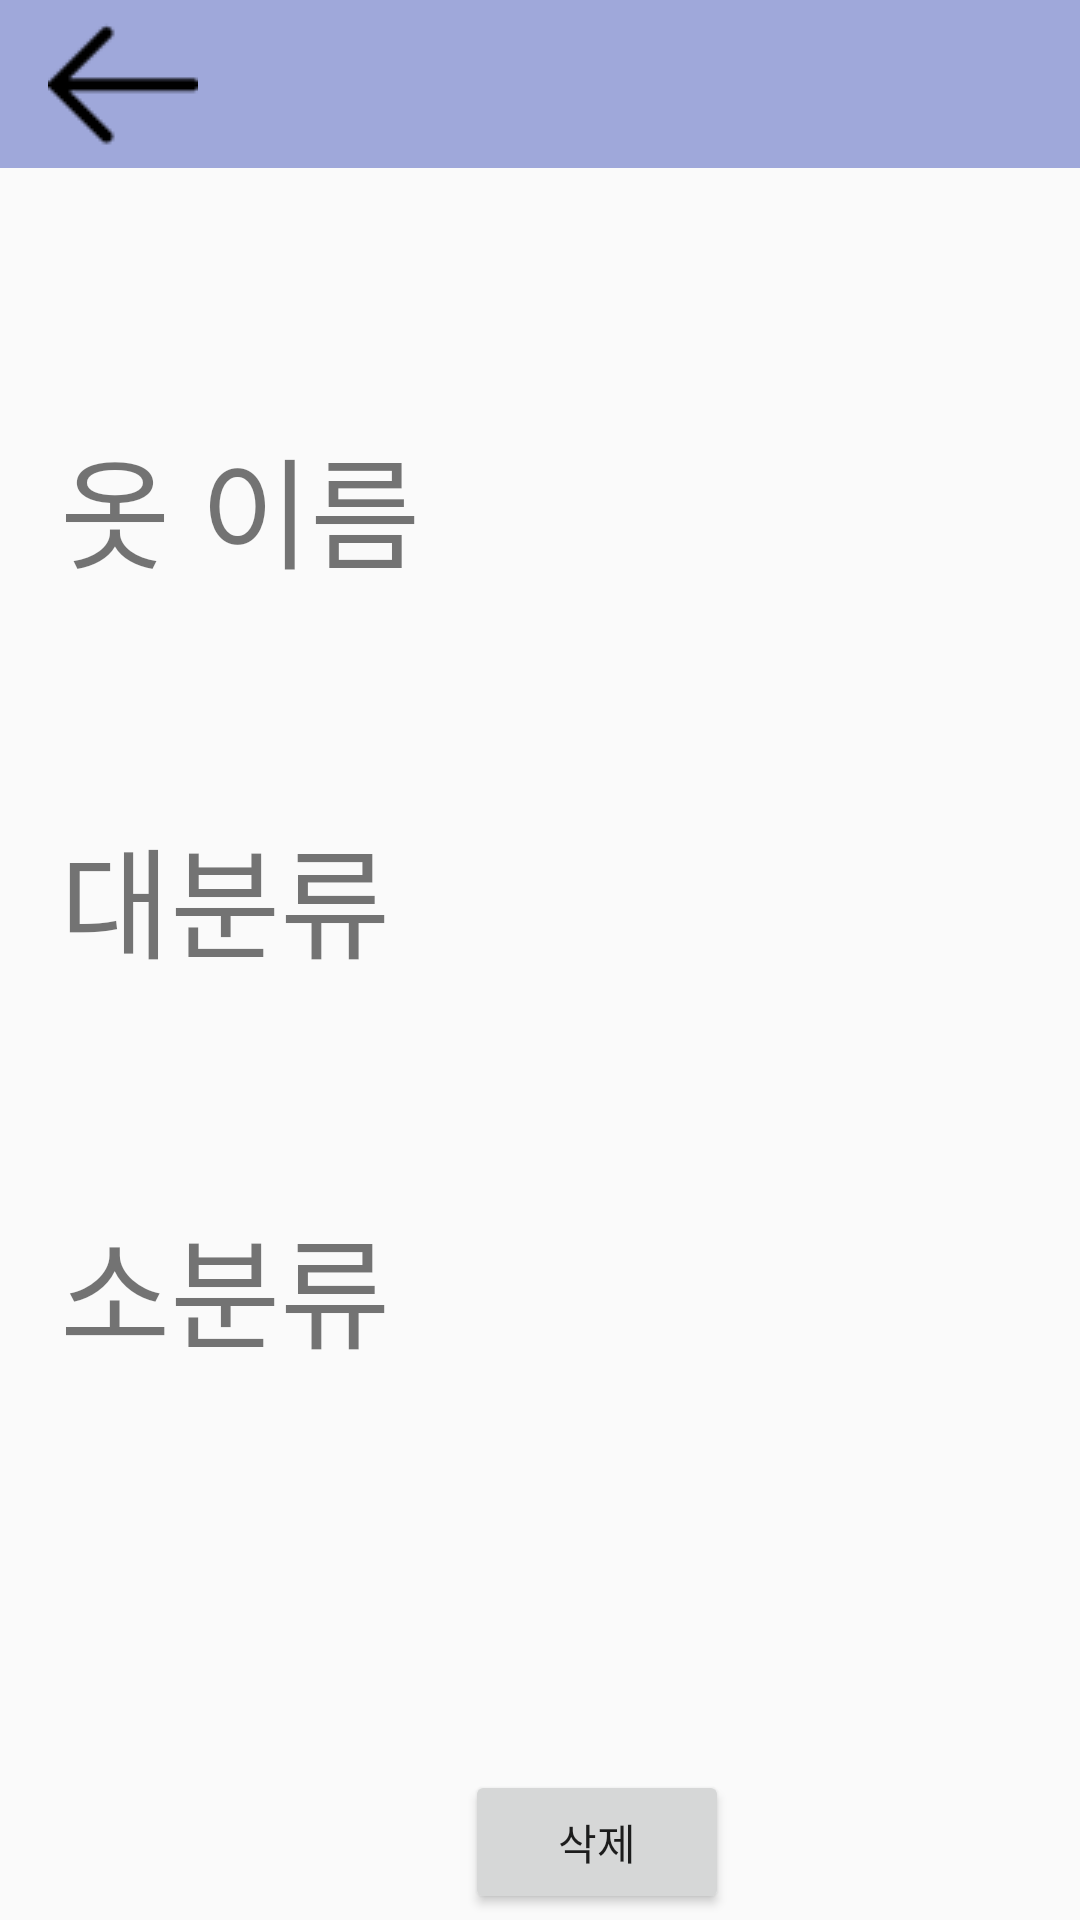

Where icons sit on this 1080×1920 app screen, as region(x1, y1, x2, y2):
previous: region(48, 26, 198, 145)
